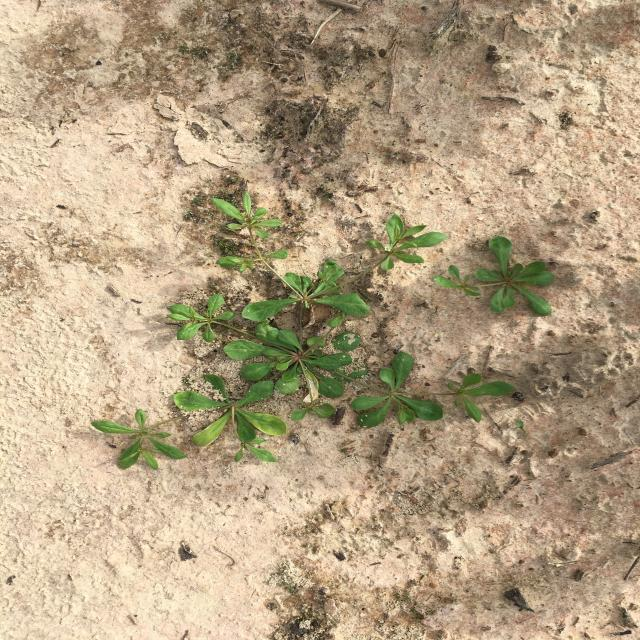Carpetweed: (90, 191, 516, 470), (433, 236, 556, 316)
